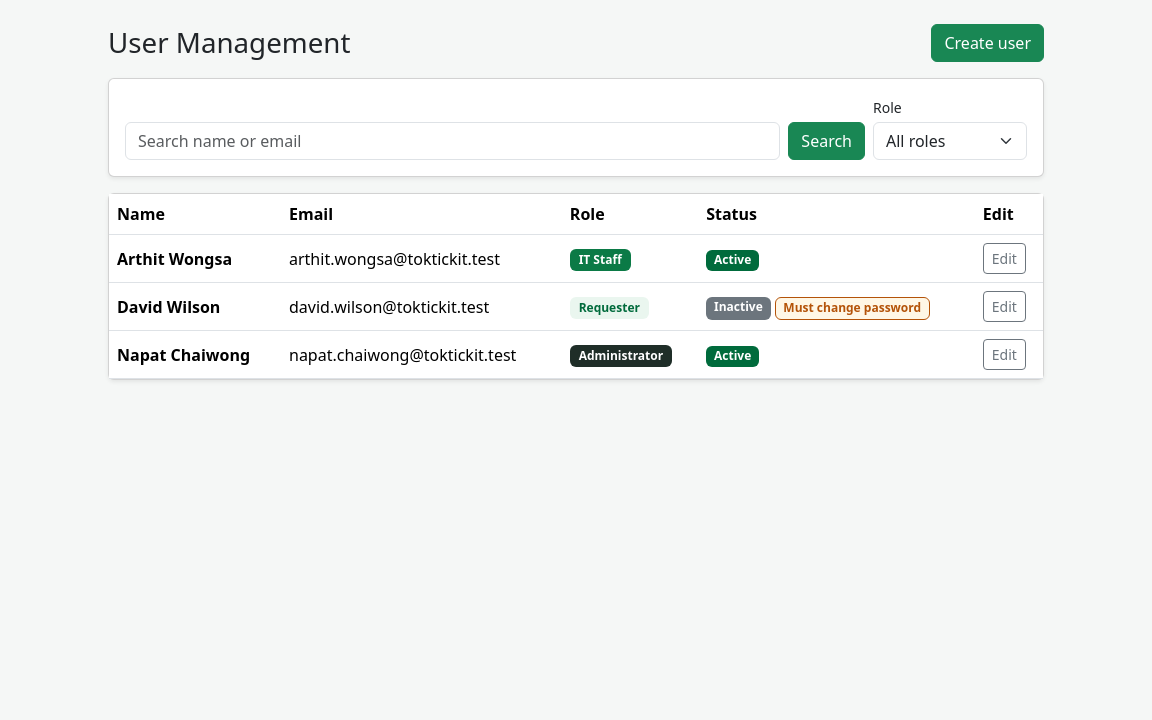
Scenario: UI-29 last active Administrator › shows the reason in an alert on the form
The image size is (1152, 720).
Click the button with aria-label "Edit Arthit Wongsa" at (1004, 258), box [983,243,1026,274]
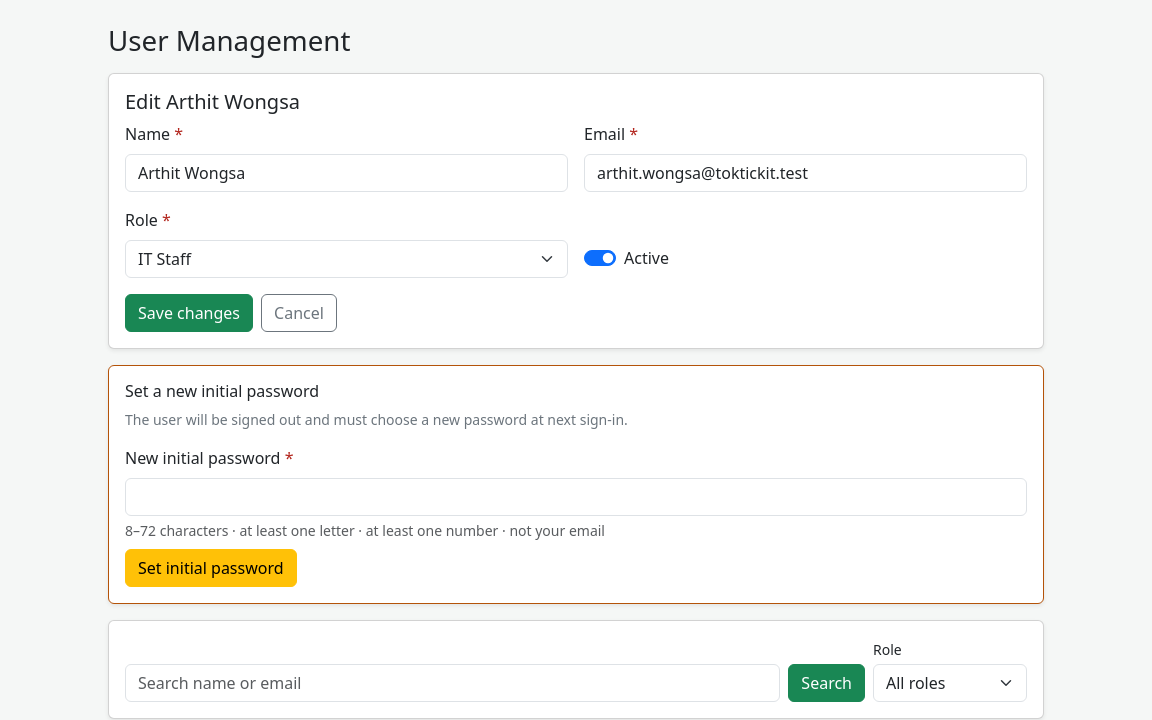
Click the switch labelled "Active" at (600, 258), box [584,250,616,266]
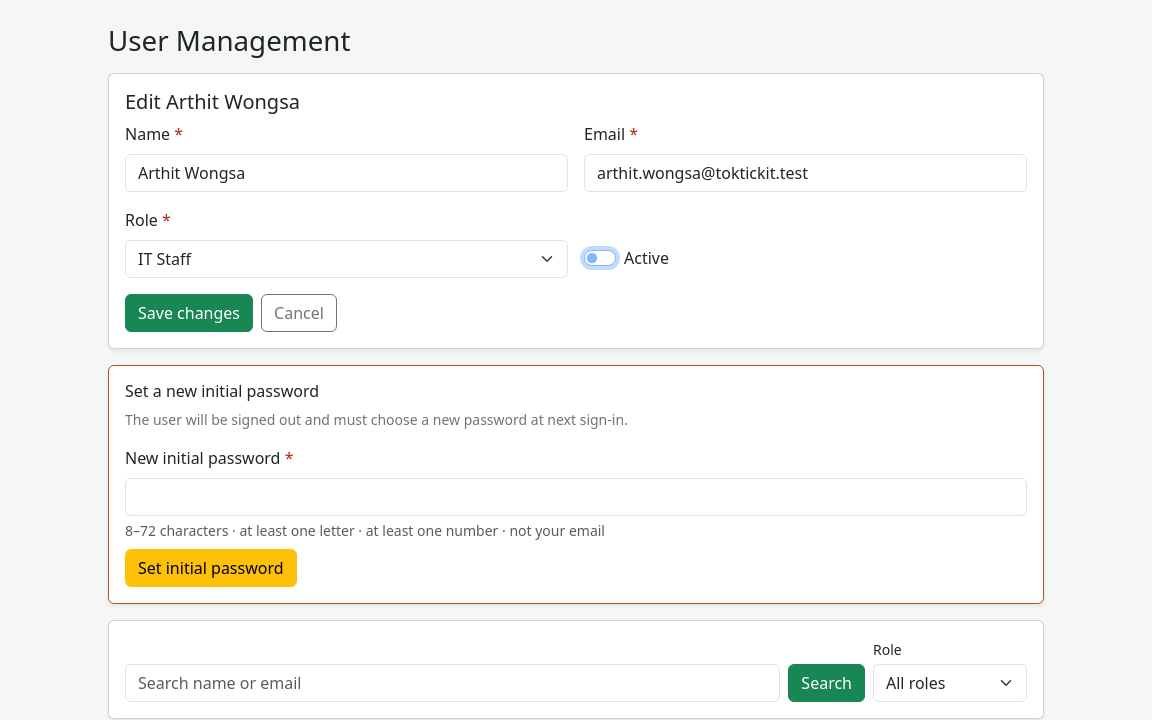
Click the button "Save changes" at (189, 313), box [125,294,253,332]
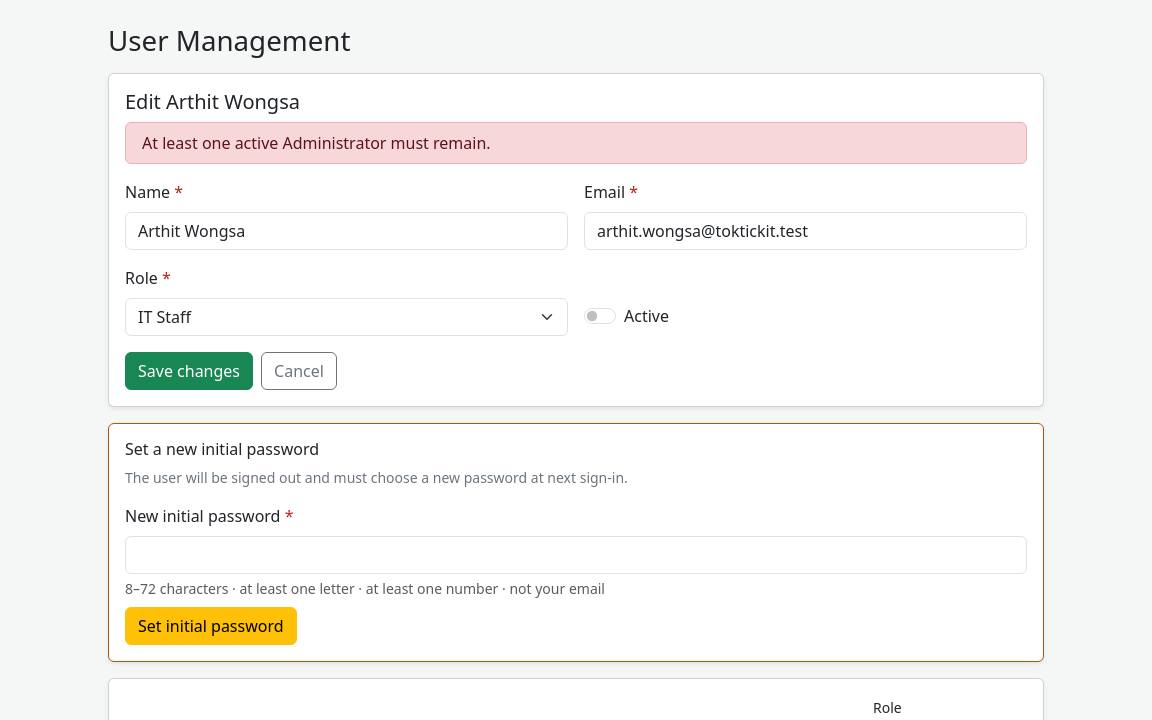
Now the message reads "At least one active Administrator must remain.", box [142,132,491,154]
